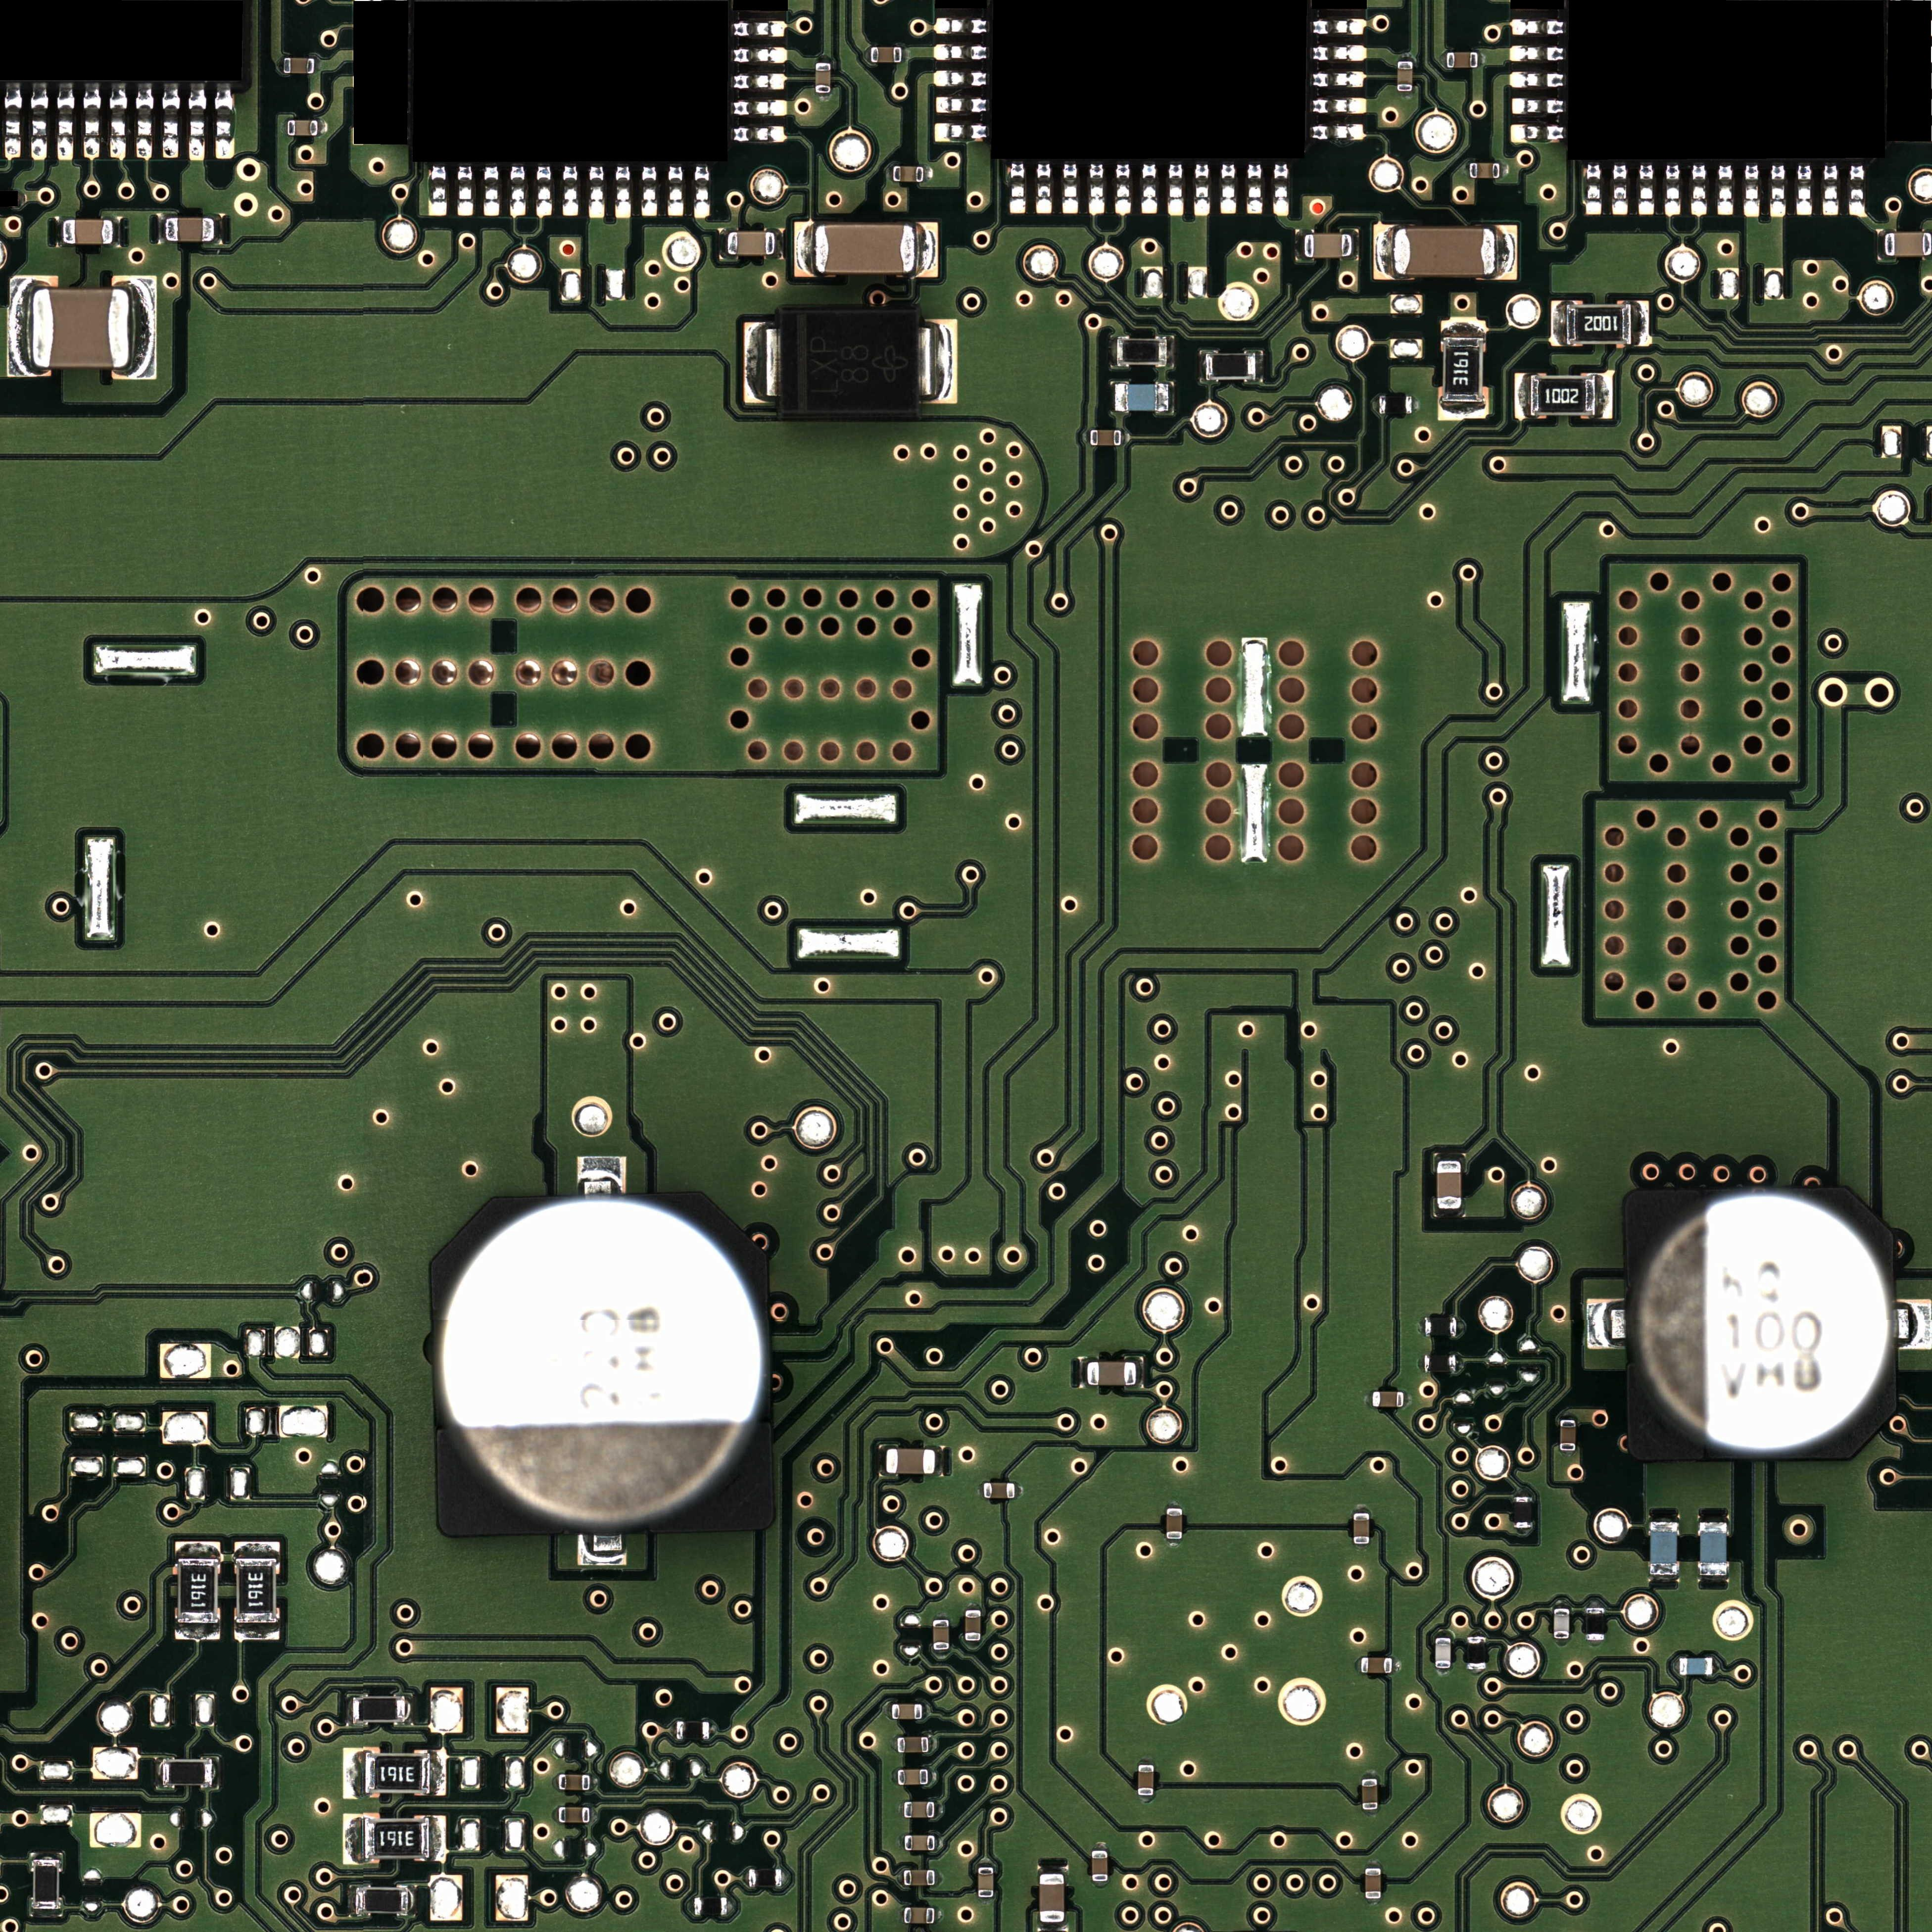Package: (433, 1194, 770, 1532), (1629, 1187, 1897, 1460), (780, 308, 918, 416), (32, 288, 131, 370), (814, 223, 915, 274), (1394, 226, 1495, 276), (235, 1559, 278, 1622), (177, 1559, 218, 1624), (364, 1819, 430, 1859), (364, 1753, 430, 1794), (1530, 375, 1596, 416), (1442, 338, 1483, 402), (1566, 304, 1631, 343), (1115, 384, 1168, 412), (352, 1697, 405, 1723), (1700, 1522, 1727, 1575), (1651, 1522, 1677, 1575), (357, 1888, 409, 1914), (1039, 1874, 1065, 1921), (64, 219, 113, 244), (163, 1760, 212, 1785), (886, 1449, 936, 1474), (34, 1859, 58, 1909), (1207, 354, 1256, 379), (166, 218, 214, 242), (1118, 340, 1166, 364), (1304, 234, 1352, 258), (1088, 1361, 1136, 1385), (1437, 1161, 1461, 1208), (727, 232, 775, 255), (1884, 234, 1930, 257), (748, 1868, 782, 1888), (694, 1897, 727, 1916), (1467, 1637, 1486, 1668), (676, 1721, 709, 1739), (1679, 1658, 1713, 1675), (1380, 396, 1412, 414), (1587, 1608, 1605, 1640), (1424, 1318, 1456, 1336), (1424, 1355, 1456, 1373), (1514, 1497, 1532, 1529), (870, 46, 901, 64), (283, 58, 315, 74), (816, 62, 832, 94), (897, 1737, 929, 1753), (559, 1775, 591, 1790), (1090, 430, 1122, 446), (984, 1483, 1016, 1499), (1435, 1637, 1451, 1668), (1361, 1658, 1392, 1674), (1353, 1513, 1369, 1545), (1362, 1778, 1378, 1810), (1560, 1419, 1576, 1451), (288, 120, 318, 136), (893, 166, 924, 182), (559, 1806, 589, 1822), (964, 1610, 980, 1640), (892, 1704, 922, 1720), (904, 1907, 934, 1923), (904, 1870, 934, 1886), (904, 1801, 934, 1817), (1470, 163, 1500, 179), (1447, 51, 1477, 67), (1166, 1509, 1182, 1539), (1373, 1391, 1403, 1407), (978, 1867, 994, 1897), (1366, 1868, 1382, 1898), (1138, 1766, 1154, 1796), (1092, 1851, 1108, 1881), (1553, 1608, 1569, 1638), (899, 1769, 927, 1785), (932, 1621, 948, 1649), (906, 1835, 934, 1851), (1398, 62, 1412, 92)
Solder: (920, 318, 957, 405), (743, 322, 778, 403), (131, 276, 156, 379), (9, 276, 30, 377), (1587, 1299, 1624, 1348), (577, 1157, 626, 1192), (1898, 1300, 1932, 1348), (579, 1534, 626, 1566), (216, 83, 234, 159), (915, 221, 938, 278), (1495, 225, 1518, 280), (4, 81, 19, 157), (32, 83, 48, 159), (189, 83, 205, 159), (136, 83, 152, 159), (110, 83, 126, 159), (1373, 225, 1394, 280), (794, 221, 814, 278), (343, 1748, 364, 1799), (85, 83, 99, 159), (165, 83, 179, 159), (58, 83, 73, 157), (343, 1813, 363, 1865), (1440, 318, 1486, 338), (1596, 372, 1614, 419), (589, 165, 605, 218), (1010, 161, 1026, 214), (1037, 161, 1053, 214), (1221, 161, 1237, 214), (1313, 46, 1366, 62), (1313, 99, 1366, 115), (1313, 124, 1366, 140), (1511, 19, 1564, 35), (1511, 44, 1564, 60), (1511, 73, 1564, 88), (1511, 97, 1564, 113), (1511, 126, 1564, 142), (1718, 163, 1734, 216), (430, 165, 446, 216), (456, 165, 472, 216), (483, 165, 499, 216), (510, 165, 525, 216), (536, 165, 552, 216), (563, 165, 579, 216), (734, 19, 786, 35), (734, 48, 786, 64), (732, 73, 784, 88), (734, 101, 786, 117), (734, 126, 786, 142), (936, 18, 987, 34), (936, 44, 987, 60), (936, 71, 987, 87), (936, 97, 987, 113), (936, 124, 987, 140), (1115, 163, 1131, 214), (1141, 163, 1157, 214), (1168, 163, 1184, 214), (1194, 163, 1210, 214), (1313, 18, 1364, 34), (1313, 71, 1364, 87), (1612, 163, 1628, 214), (1638, 165, 1654, 216), (1769, 165, 1785, 216), (1822, 165, 1838, 216), (1849, 165, 1865, 216), (1438, 403, 1488, 419), (1274, 161, 1288, 216), (695, 165, 709, 218), (642, 165, 656, 218), (1063, 161, 1077, 214), (1090, 161, 1104, 214), (1247, 161, 1261, 214), (1665, 163, 1679, 216), (1693, 163, 1707, 216), (175, 1541, 221, 1557), (234, 1624, 280, 1640), (430, 1815, 446, 1861), (430, 1750, 446, 1796), (234, 1541, 280, 1557), (175, 1624, 221, 1640), (1633, 301, 1649, 347), (1514, 373, 1530, 419), (616, 166, 630, 218), (669, 165, 683, 216), (1587, 163, 1601, 214), (1744, 165, 1759, 216), (1798, 165, 1812, 216), (1552, 301, 1566, 347), (1295, 228, 1304, 262), (30, 1909, 62, 1918), (409, 1884, 418, 1916), (718, 228, 727, 260), (878, 1444, 886, 1476), (1166, 336, 1175, 368), (1256, 350, 1265, 382), (1077, 1357, 1086, 1389), (1037, 1923, 1069, 1932), (1433, 1208, 1465, 1217), (1697, 1575, 1729, 1583), (1875, 230, 1884, 262), (775, 228, 784, 258), (1168, 382, 1177, 412), (1136, 1357, 1145, 1387), (1039, 1865, 1069, 1874), (1435, 1152, 1465, 1161), (1649, 1575, 1679, 1583), (154, 1759, 163, 1787), (1109, 334, 1116, 368), (212, 1757, 219, 1789), (405, 1693, 412, 1725), (936, 1445, 943, 1477), (1352, 228, 1359, 260), (113, 218, 120, 248), (214, 214, 221, 244), (349, 1886, 356, 1916), (345, 1695, 352, 1725), (32, 1851, 62, 1858), (1698, 1514, 1729, 1522), (1649, 1514, 1679, 1522), (57, 218, 64, 246), (1198, 352, 1205, 380), (1412, 395, 1421, 414), (159, 214, 165, 244), (1109, 382, 1115, 412), (924, 166, 932, 182), (1438, 51, 1447, 67), (18, 191, 27, 207), (1458, 1318, 1465, 1338), (276, 57, 283, 74), (318, 119, 326, 136), (315, 57, 322, 74), (886, 165, 893, 182), (709, 1721, 717, 1739), (686, 1898, 694, 1916), (727, 1898, 734, 1916), (782, 1868, 789, 1886), (1371, 396, 1378, 414), (1463, 161, 1470, 179), (1456, 1355, 1463, 1373), (1713, 1658, 1720, 1675), (902, 46, 909, 62), (816, 55, 832, 62), (591, 1775, 598, 1790), (966, 1603, 982, 1610), (932, 1614, 948, 1621), (552, 1806, 559, 1822), (552, 1775, 559, 1790), (964, 1640, 980, 1647), (1122, 430, 1129, 446), (1417, 1318, 1424, 1334), (1092, 1844, 1108, 1851), (1362, 1771, 1378, 1778), (1353, 1506, 1369, 1513), (977, 1483, 984, 1499), (1392, 1658, 1399, 1674), (1477, 51, 1484, 67), (1500, 163, 1507, 179), (1435, 1629, 1451, 1637), (1514, 1490, 1530, 1497), (743, 1868, 748, 1888), (929, 1737, 936, 1752), (922, 1704, 929, 1718), (934, 1909, 941, 1923), (1398, 53, 1412, 60), (1366, 1861, 1380, 1868), (1016, 1483, 1023, 1497), (1589, 1601, 1603, 1608), (1555, 1599, 1569, 1606), (281, 119, 287, 136), (671, 1721, 676, 1739), (1396, 92, 1414, 97), (1514, 1529, 1532, 1534), (865, 46, 870, 62), (816, 92, 832, 97), (591, 1806, 596, 1822), (934, 1651, 950, 1656), (1085, 430, 1090, 446), (1366, 1391, 1371, 1407), (1138, 1796, 1154, 1801), (1138, 1759, 1154, 1764), (1092, 1881, 1108, 1886), (1353, 1545, 1369, 1550), (1560, 1451, 1576, 1456), (1468, 1631, 1484, 1637), (1468, 1668, 1484, 1674), (1587, 1640, 1603, 1645), (1553, 1638, 1569, 1644), (1674, 1658, 1679, 1674), (929, 1769, 934, 1783), (934, 1803, 939, 1817), (934, 1836, 939, 1851), (934, 1870, 939, 1884), (899, 1909, 904, 1923), (899, 1803, 904, 1817), (1403, 1392, 1408, 1407), (978, 1861, 993, 1867), (1168, 1502, 1182, 1507), (1355, 1658, 1361, 1672), (1168, 1539, 1182, 1545), (978, 1897, 993, 1902), (1366, 1898, 1380, 1904), (1560, 1414, 1575, 1419), (1437, 1668, 1451, 1674), (899, 1872, 904, 1884), (893, 1771, 899, 1783), (1419, 1357, 1424, 1369), (893, 1737, 897, 1752), (888, 1704, 892, 1718), (1362, 1810, 1376, 1813), (901, 1836, 904, 1849)
